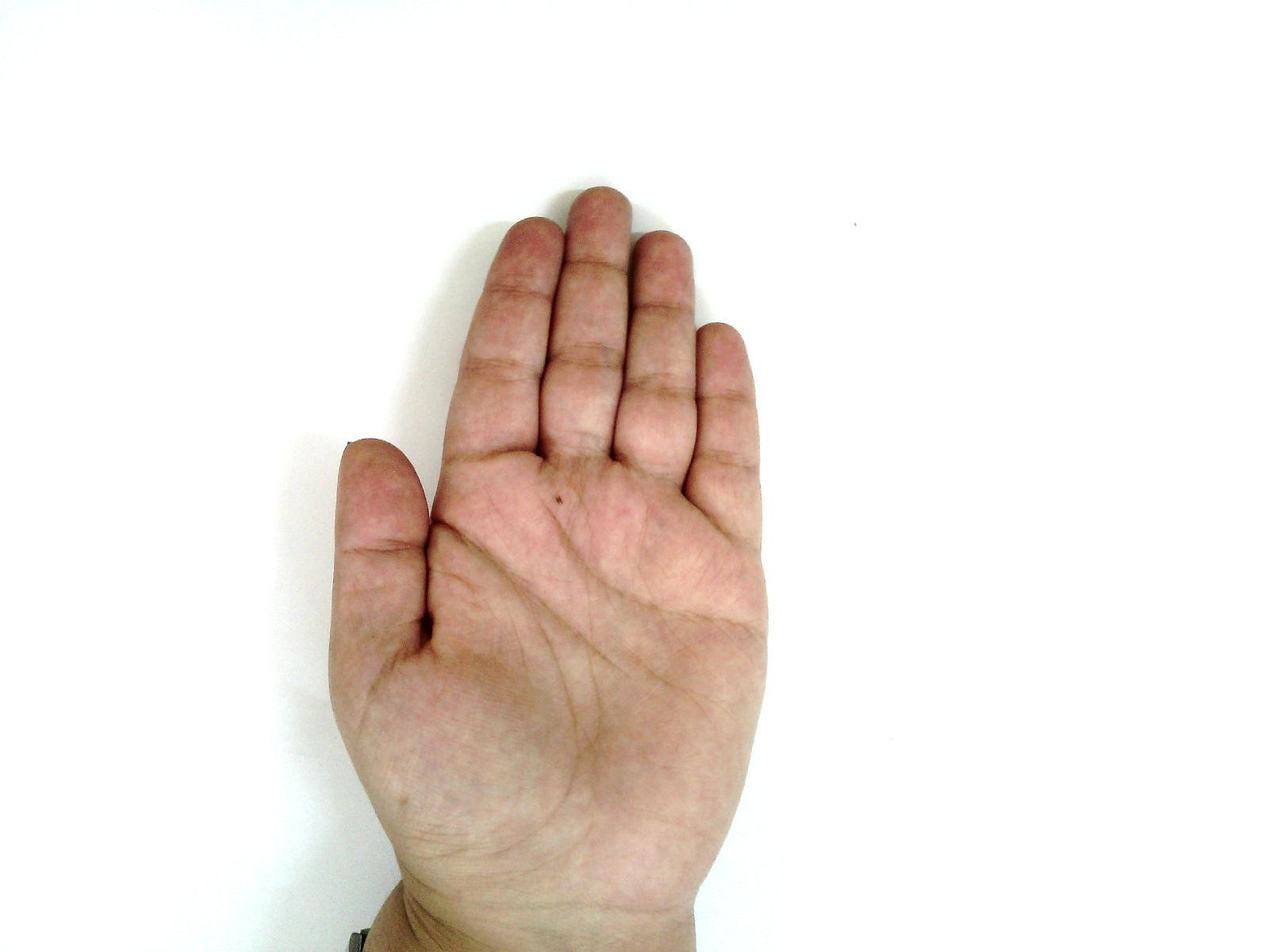open_palm: (325, 185, 773, 947)
